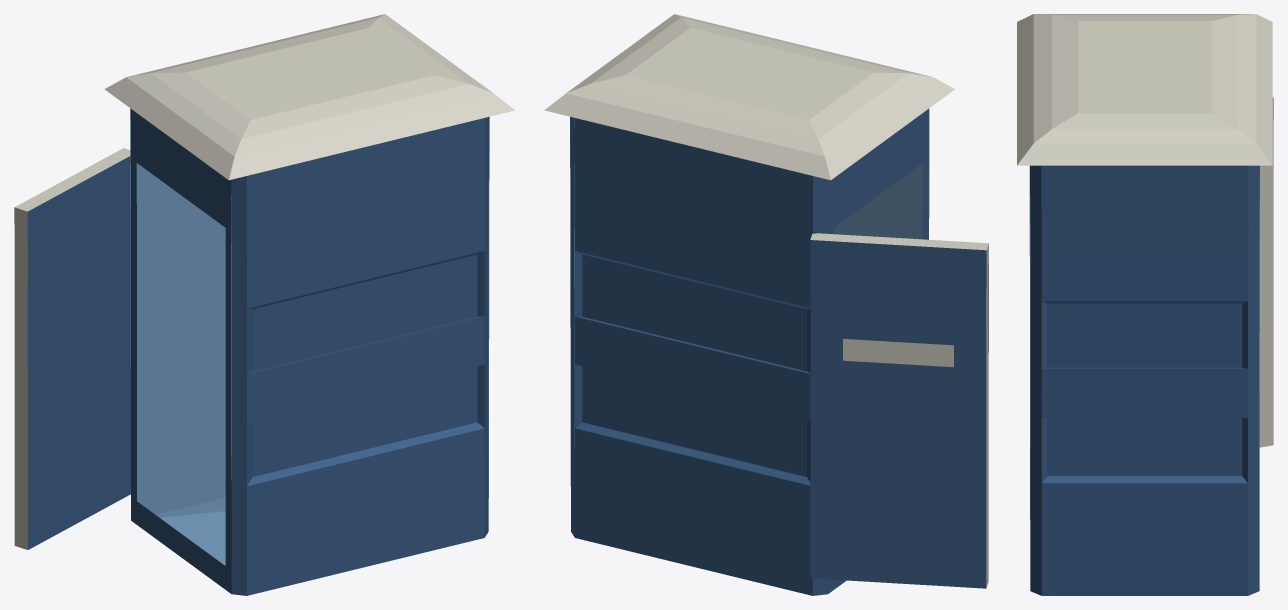
The model's file is Toilet_2.fbx.
3 views of the same model, side by side, from view 1: azimuth 30°, elevation 25°; view 2: azimuth 150°, elevation 25°; view 3: azimuth 270°, elevation 25° (orthographic). The views are drawn at different scales.
Visible parts, largest first — view 1: Cube, Cube.001; view 2: Cube, Cube.001; view 3: Cube, Cube.001.
Boxes of the visible parts, <box> form: Cube: <box>104,14,514,595</box>; Cube.001: <box>14,148,130,549</box>; Cube: <box>544,14,954,595</box>; Cube.001: <box>810,233,988,588</box>; Cube: <box>1017,14,1272,595</box>; Cube.001: <box>1259,97,1273,447</box>.
Size of the model in its own units: 319 by 336 by 168.
Materials: 1 (1 with a texture image).
